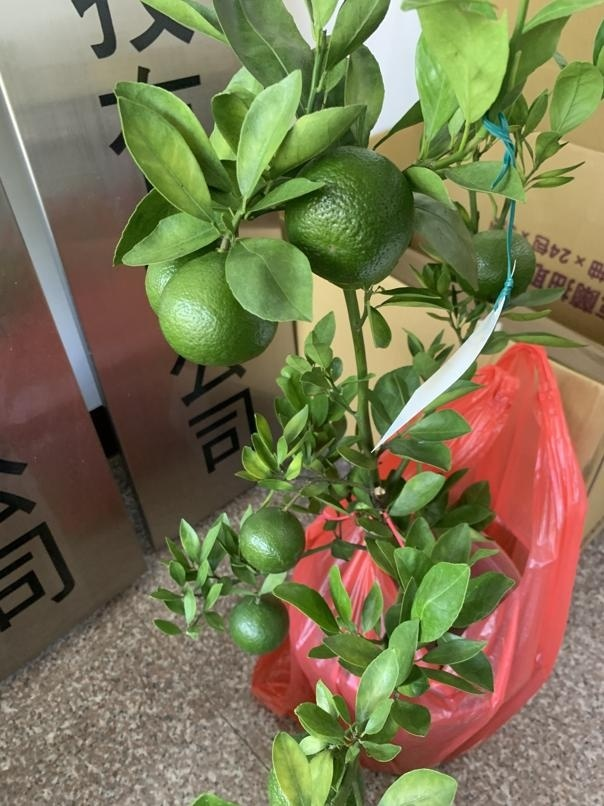Tangerine: (281, 143, 417, 280), (158, 250, 280, 366), (235, 501, 309, 576), (229, 593, 290, 656), (376, 763, 463, 806)
